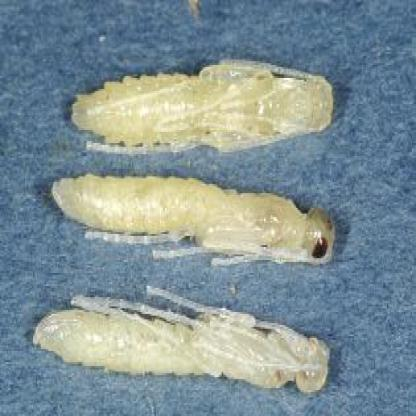sawfly: (28, 272, 334, 398), (47, 163, 339, 275), (66, 50, 338, 161)
